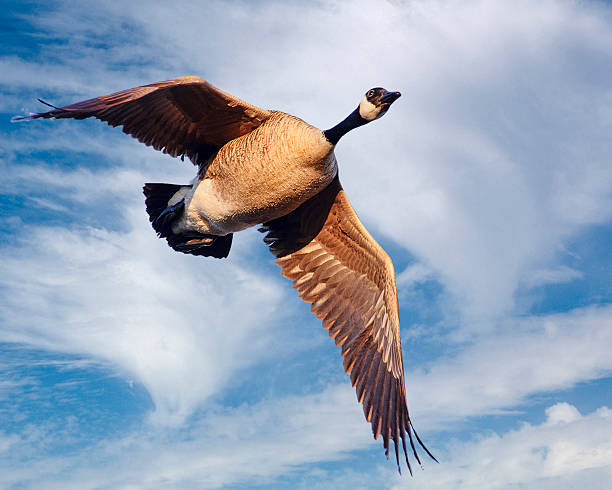goose: (9, 72, 438, 479)
